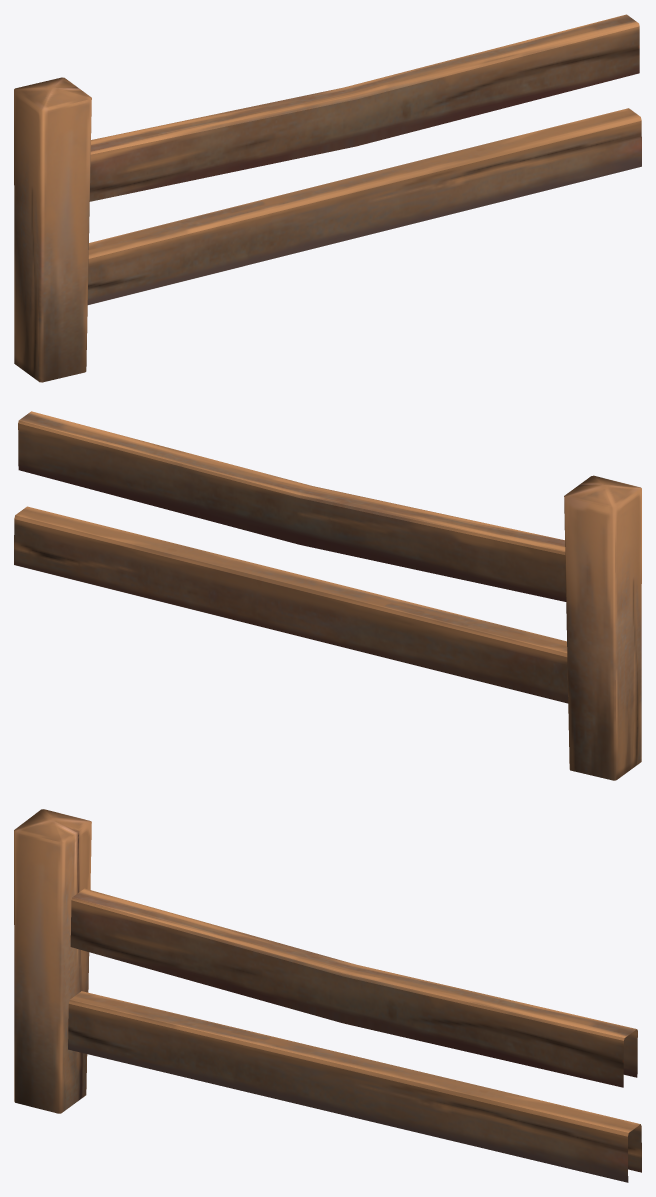
File: FenceInline_B.gltf
3 views of the same model, one above another, from view 1: azimuth 30°, elevation 25°; view 2: azimuth 150°, elevation 25°; view 3: azimuth 330°, elevation 25° (orthographic).
Visible parts, largest first — view 1: Cube.016; view 2: Cube.016; view 3: Cube.016.
Boxes of the visible parts, left/top/right/bottom form: Cube.016: left=14, top=14, right=641, bottom=382; Cube.016: left=14, top=411, right=641, bottom=780; Cube.016: left=14, top=809, right=641, bottom=1182.
Size of what is drawn, in the model's own units: 2.44 by 1.07 by 0.203.
1 material, 1 textured.
